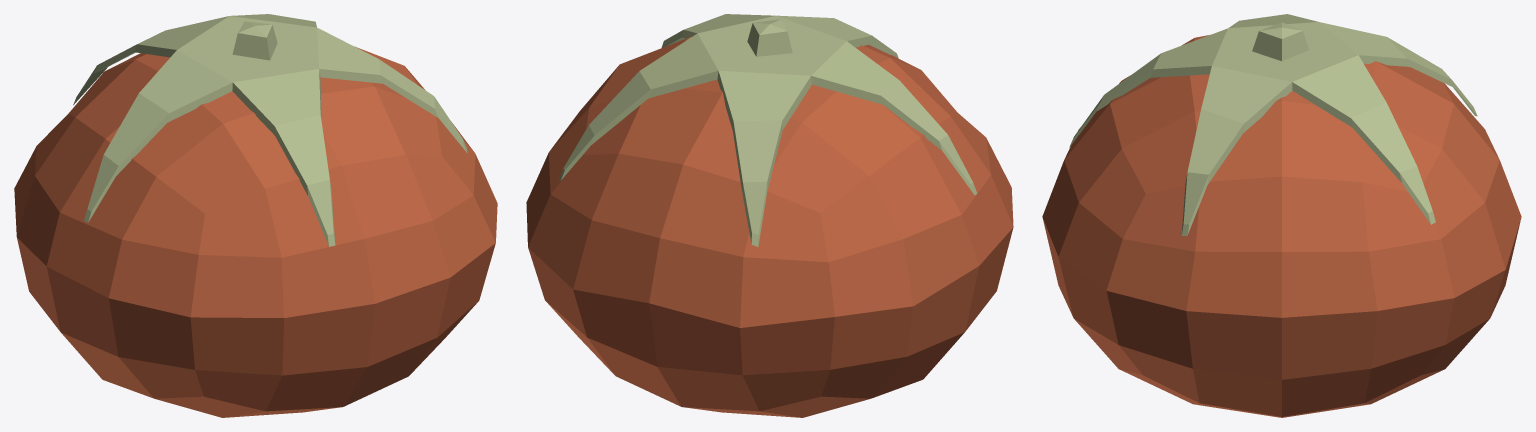
File: tomato.glb
The picture shows the model from 3 angles, left to right: view 1: azimuth 30°, elevation 25°; view 2: azimuth 150°, elevation 25°; view 3: azimuth 270°, elevation 25°; orthographic projection.
Visible parts, largest first — view 1: Tomato_Crop; view 2: Tomato_Crop; view 3: Tomato_Crop.
Part boxes in pixels (x1,y1,x2,y2): Tomato_Crop: [14, 14, 497, 417]; Tomato_Crop: [526, 14, 1013, 417]; Tomato_Crop: [1042, 14, 1521, 417].
Bounding box in the file's own units: 0.178 × 0.1481 × 0.178.
